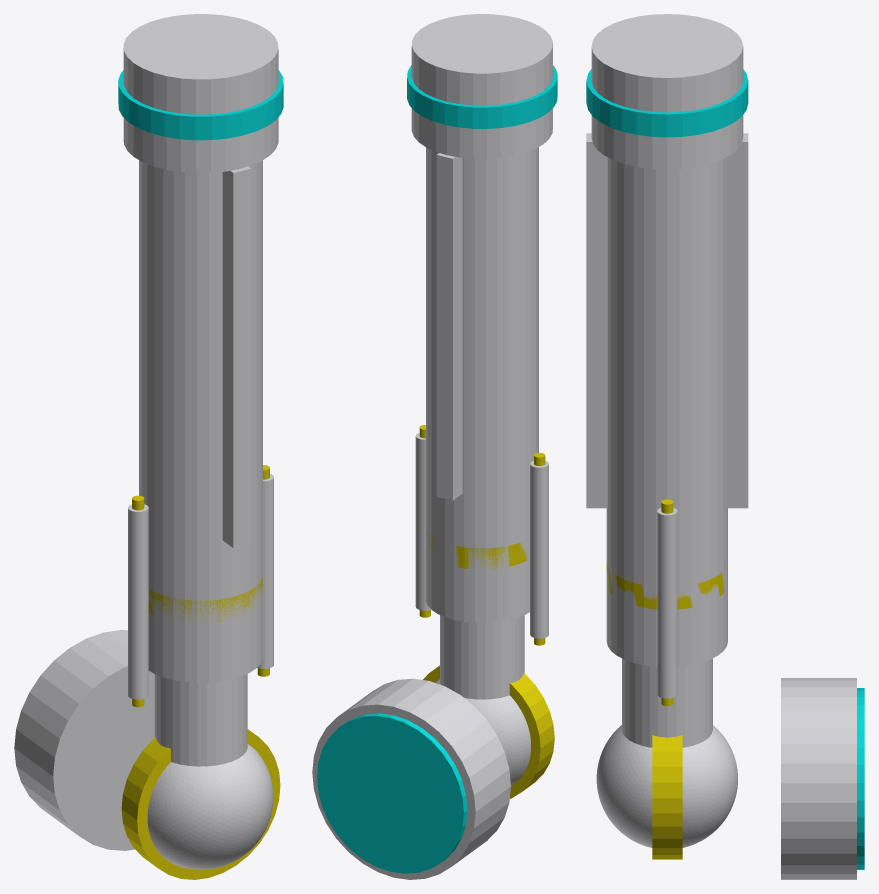
File: pygmalion_scanner.glb
The picture shows the model from 3 angles, left to right: view 1: azimuth 30°, elevation 25°; view 2: azimuth 150°, elevation 25°; view 3: azimuth 270°, elevation 25°; orthographic projection. The views are drawn at different scales.
Visible parts, largest first — view 1: stem, base, eye, wrist, shoulder, upperArm; view 2: stem, eye, base, shoulder, upperArm, wrist; view 3: stem, base, eye, shoulder, wrist, upperArm.
Part boxes in pixels (x1,y1,x2,y2): stem: [139, 160, 262, 548]; base: [118, 14, 283, 173]; eye: [14, 630, 154, 850]; wrist: [121, 729, 280, 879]; shoulder: [148, 518, 262, 682]; upperArm: [128, 465, 273, 766]; stem: [426, 147, 538, 500]; eye: [312, 678, 510, 879]; base: [407, 14, 557, 158]; shoulder: [426, 473, 529, 623]; upperArm: [415, 425, 548, 699]; wrist: [423, 665, 554, 798]; stem: [586, 133, 748, 529]; base: [586, 14, 748, 169]; eye: [781, 678, 864, 879]; shoulder: [606, 508, 727, 666]; wrist: [596, 725, 737, 859]; upperArm: [622, 499, 712, 747].
Size of the model in its own units: 4 by 18 by 5.5.
